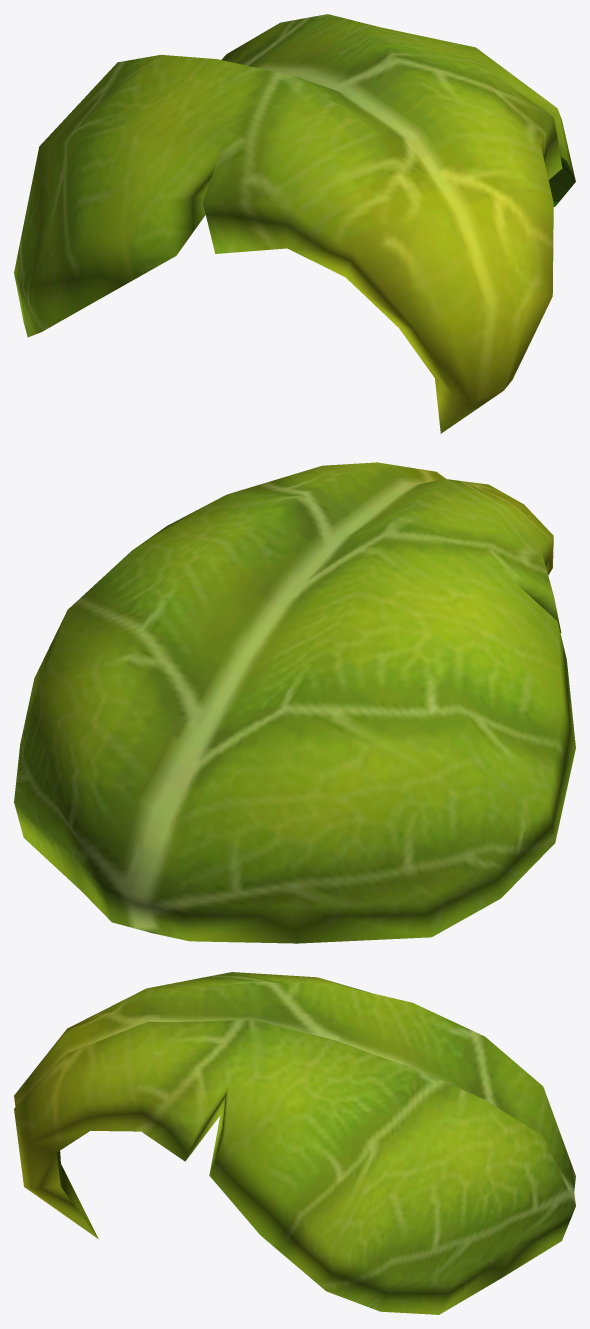
Rendered from firepea_hoja_frente.obj.
3 views of the same model, one above another, from view 1: azimuth 30°, elevation 25°; view 2: azimuth 150°, elevation 25°; view 3: azimuth 270°, elevation 25° (orthographic). The views are drawn at different scales.
Parts seen in each view (by area): view 1: firepea_hoja_frente; view 2: firepea_hoja_frente; view 3: firepea_hoja_frente.
Part boxes in pixels (x1=…): firepea_hoja_frente: x1=14, y1=14, x2=575, y2=433; firepea_hoja_frente: x1=14, y1=462, x2=575, y2=943; firepea_hoja_frente: x1=14, y1=972, x2=575, y2=1314.
Size of the model in its own units: 0.3937 by 0.2185 by 0.467.
